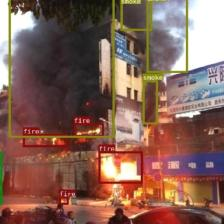fire: (98, 151, 142, 183), (22, 134, 68, 146), (73, 123, 103, 136), (59, 196, 68, 204)
smoke: (8, 0, 114, 137), (146, 0, 187, 72), (120, 0, 151, 30), (142, 80, 158, 124)
